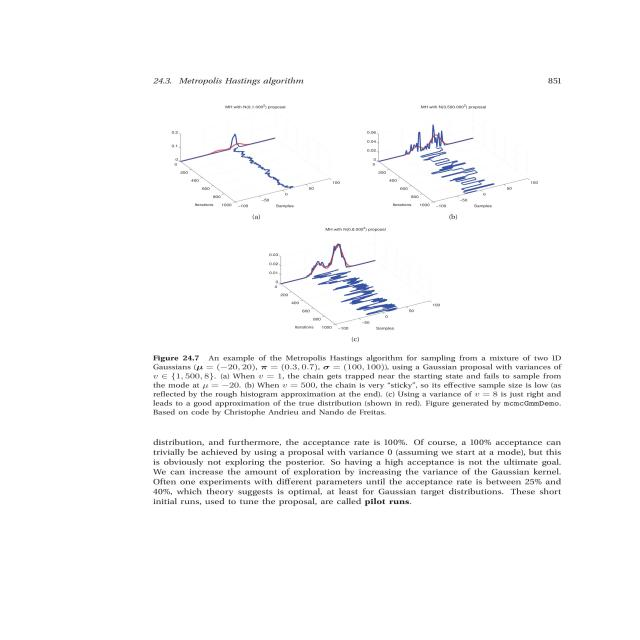diagram: (116, 99, 614, 425)
